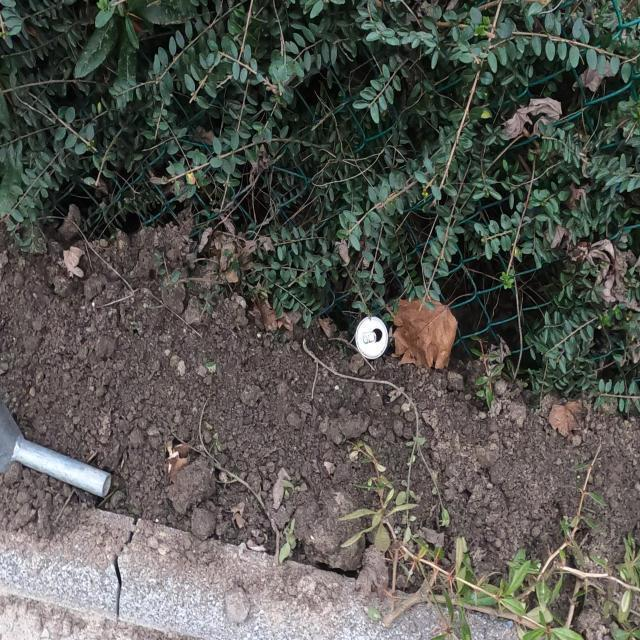Can-Metal: (354, 310, 394, 360)
Paper: (62, 245, 86, 279)
